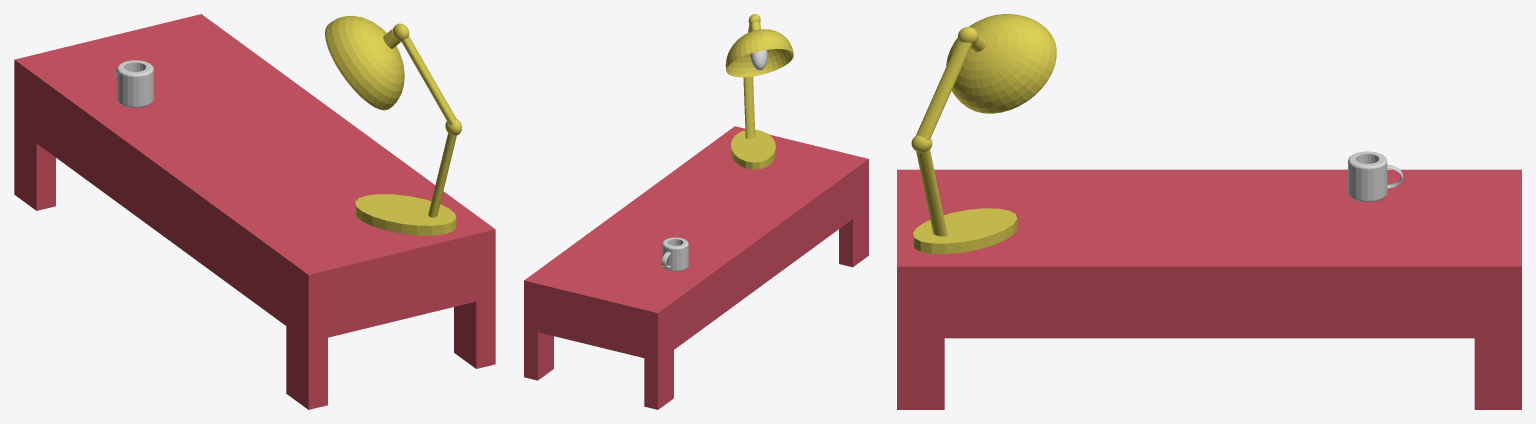
Rendered from Table.glb.
3 views of the same model, side by side, from view 1: azimuth 30°, elevation 25°; view 2: azimuth 150°, elevation 25°; view 3: azimuth 270°, elevation 25° (orthographic). The views are drawn at different scales.
Visible parts, largest first — view 1: Mesh_Mesh_head_geo.001_lambert2SG.001; view 2: Mesh_Mesh_head_geo.001_lambert2SG.001; view 3: Mesh_Mesh_head_geo.001_lambert2SG.001.
Part boxes in pixels (x1,y1,x2,y2): Mesh_Mesh_head_geo.001_lambert2SG.001: (14,14,495,409); Mesh_Mesh_head_geo.001_lambert2SG.001: (524,14,868,409); Mesh_Mesh_head_geo.001_lambert2SG.001: (897,14,1521,409).
Size of the model in its own units: 29 by 48.91 by 79.
